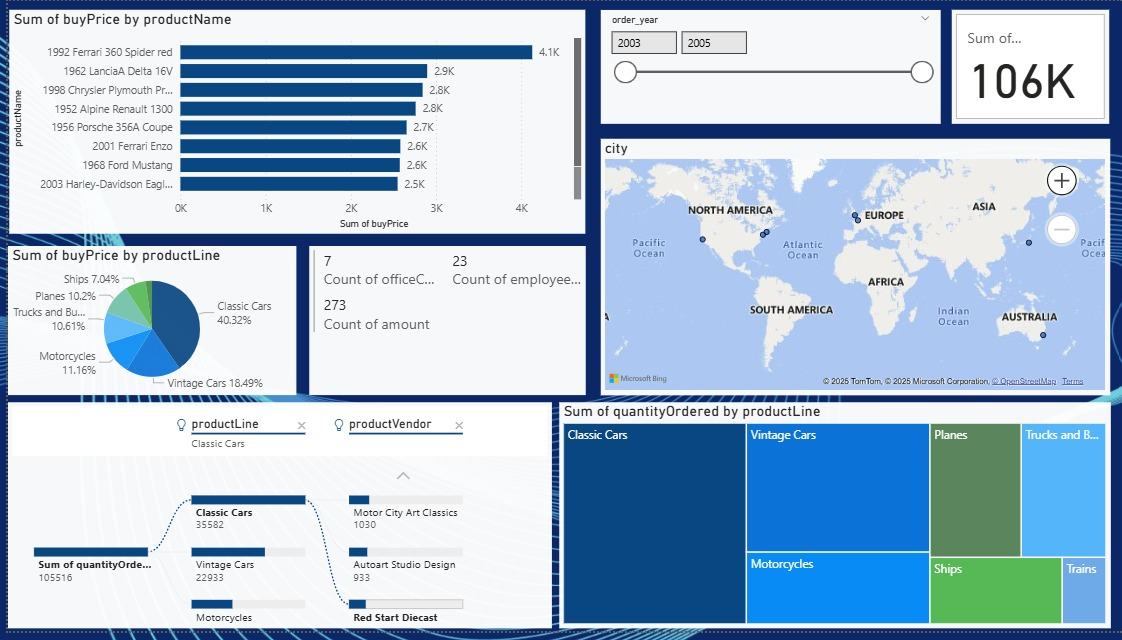

The page's visual inventory and layout, read from the dashboard file:
{"tool":"powerbi","page":{"name":"Page 1","canvas":[1280,720],"ordinal":0},"visuals":[{"type":"barChart","fields":{"Category":["products.productName"],"Y":["Sum(order details.buyPrice)"]},"box":[1.4,10,658.6,255.7],"z":0},{"type":"pieChart","fields":{"Category":["products.productLine"],"Y":["Sum(order details.buyPrice)"]},"box":[0,279.9,329.6,170.4],"z":1000},{"type":"slicer","fields":{"Values":["orders.order_year"]},"box":[677.1,10,388.6,130],"z":2000},{"type":"cardVisual","fields":{"Data":["Sum(order details.quantityOrdered)"]},"box":[1078.6,10,180,130],"z":3000},{"type":"multiRowCard","fields":{"Values":["offices.officeCode","Count(employees.employeeNumber)","Count(payments.amount)"]},"box":[344.3,280,315.7,170],"z":4000},{"type":"map","fields":{"Category":["employees.city"]},"box":[676.7,156.7,582.2,293.6],"z":5000},{"type":"treemap","fields":{"Group":["products.productLine"],"Values":["Sum(order details.quantityOrdered)"]},"box":[630,458.6,630,258.6],"z":6000},{"type":"decompositionTreeVisual","fields":{"Analyze":["Sum(order details.quantityOrdered)"],"ExplainBy":["products.productLine","products.productVendor"]},"box":[0,458.6,621.4,258.6],"z":7000}]}

Visuals, with their boxes in screenshot pixels (x1, y1, x2, y2), scaled from the page's 1280x720 canvas onto the 1122x640 screenshot:
barChart - products.productName x Sum(order details.buyPrice): left=1, top=9, right=579, bottom=236
pieChart - products.productLine x Sum(order details.buyPrice): left=0, top=249, right=289, bottom=400
slicer - orders.order_year: left=594, top=9, right=934, bottom=124
cardVisual - Sum(order details.quantityOrdered): left=945, top=9, right=1103, bottom=124
multiRowCard - offices.officeCode x Count(employees.employeeNumber): left=302, top=249, right=579, bottom=400
map - employees.city: left=593, top=139, right=1104, bottom=400
treemap - products.productLine x Sum(order details.quantityOrdered): left=552, top=408, right=1104, bottom=638
decompositionTreeVisual - Sum(order details.quantityOrdered) x products.productLine: left=0, top=408, right=545, bottom=638
